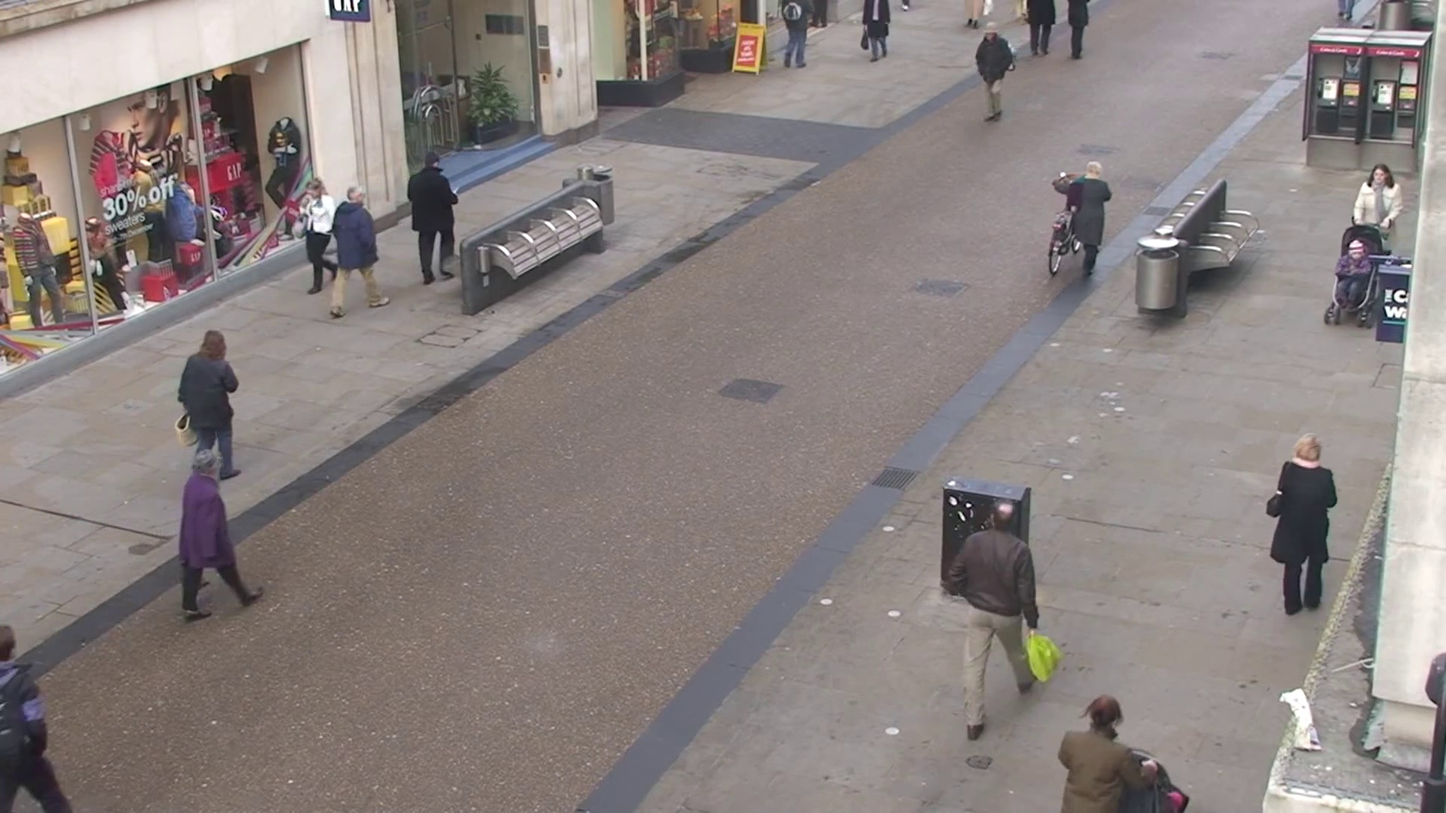person: (947, 501, 1045, 742), (177, 452, 261, 621), (1264, 433, 1339, 618), (0, 624, 72, 811), (1057, 695, 1158, 812), (176, 330, 241, 480), (1342, 163, 1399, 309), (331, 184, 388, 314), (408, 154, 459, 286), (1063, 162, 1113, 275), (301, 182, 338, 297), (975, 23, 1017, 123), (1351, 165, 1399, 231), (860, 1, 891, 62), (1027, 1, 1055, 58)
